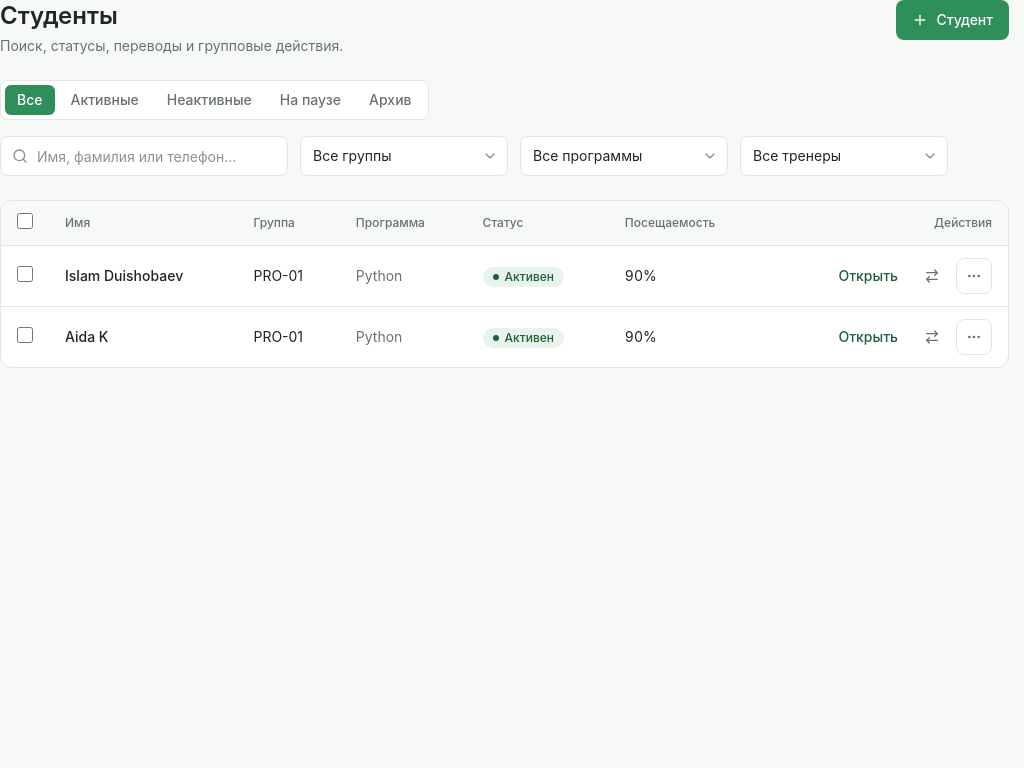
Scenario: Assistant Workspace › selects students and runs one bulk transfer for all of them
Click the checkbox named "Выбрать всех на странице" at (25, 221), box [17,213,33,229]
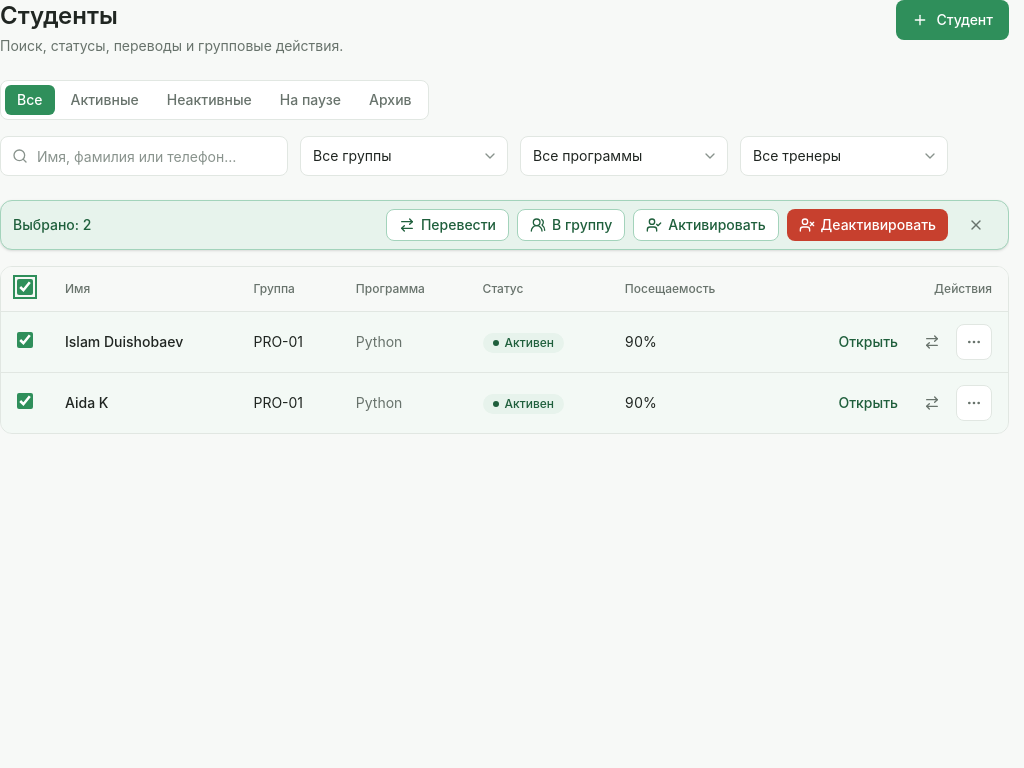
Expected: the text "Выбрано: 2" is shown, [13,215,91,235]
Click the button "Перевести" at (447, 225), box [386,209,509,241]
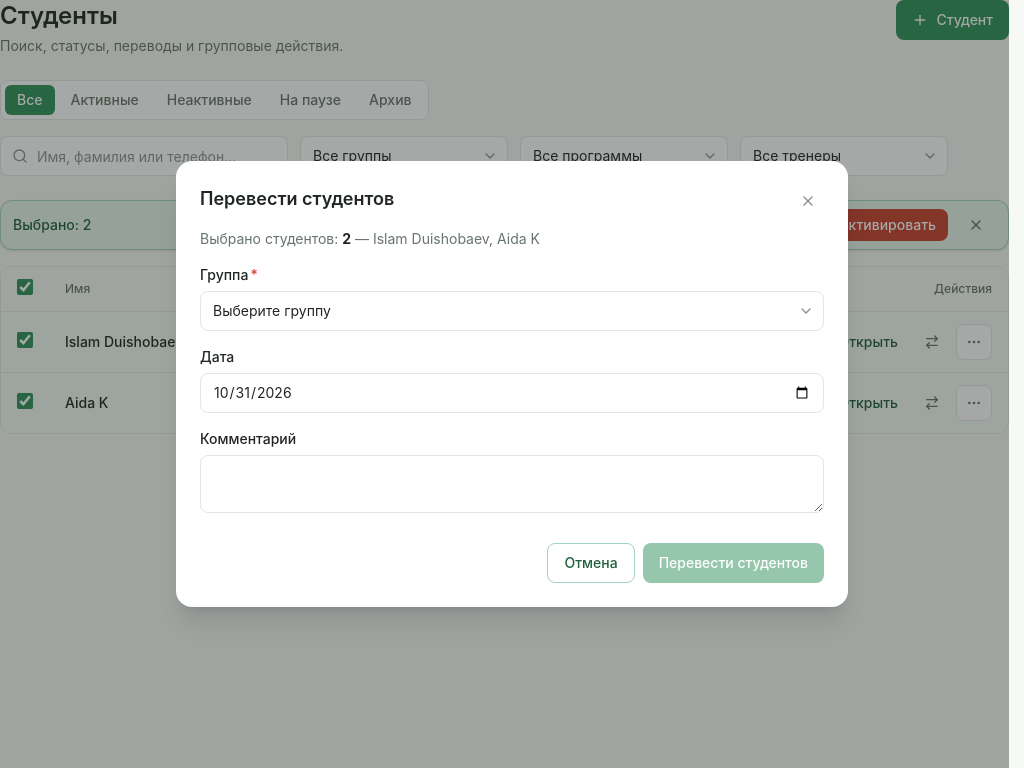
Select "PRO-02 — Python (16)" in the dropdown labelled "Группа*" at (512, 311), box [200,291,824,331]
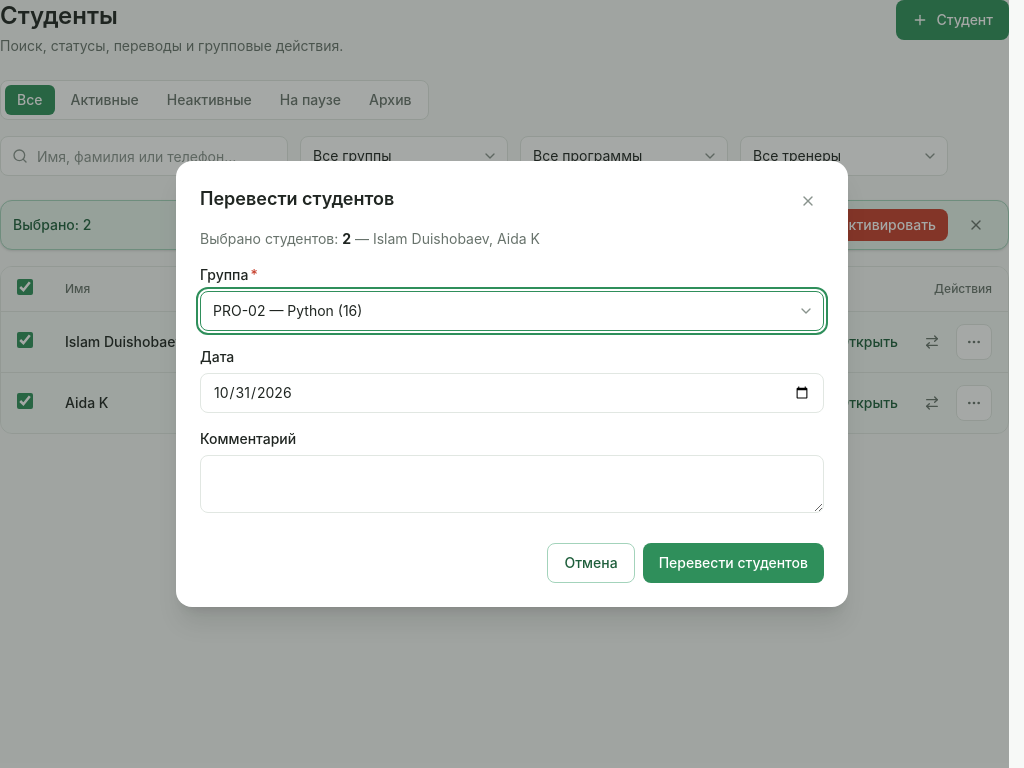
Click the button "Перевести студентов" at (733, 563), box [643,543,824,583]
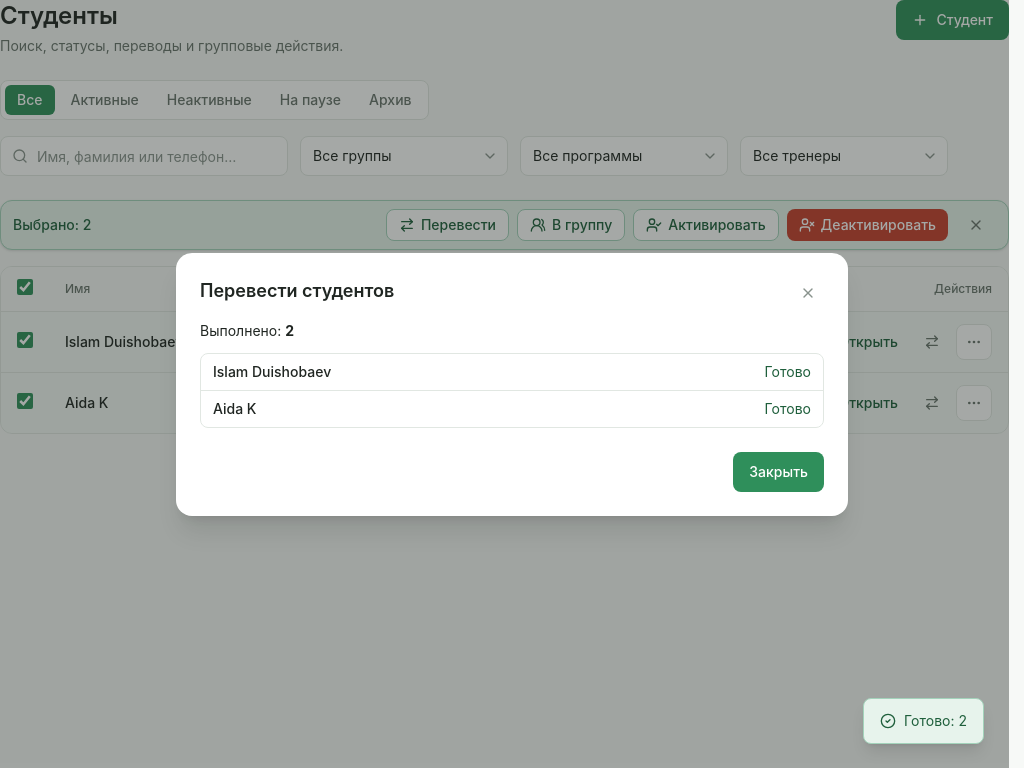
Expected: the text "Готово" is shown 2 times, [765,362,811,382]; [765,398,811,418]
